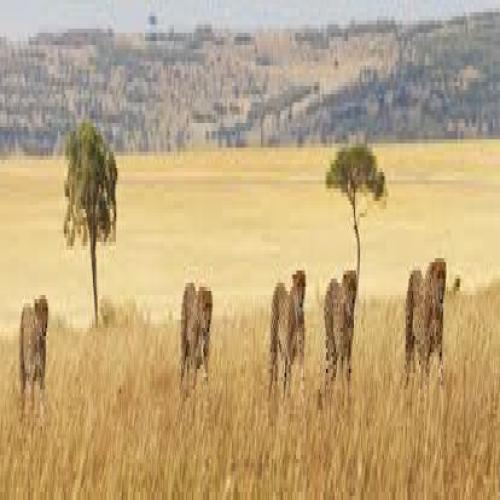cheetah-endangered: (404, 254, 445, 370), (270, 269, 307, 383), (324, 266, 358, 388), (19, 284, 50, 411), (180, 276, 213, 376)
